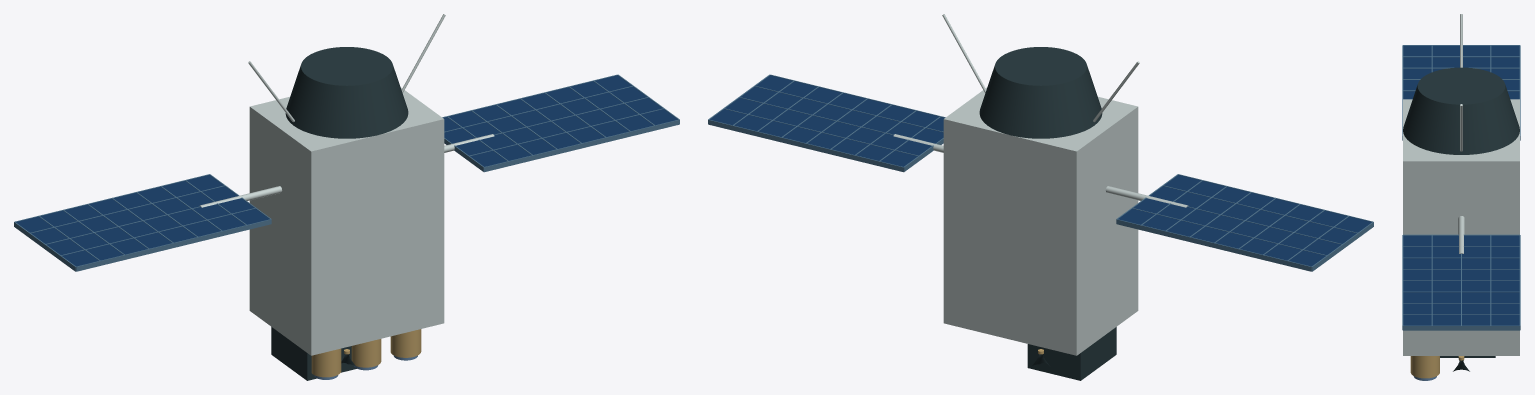
The model's file is landsat-1.glb.
The picture shows the model from 3 angles, left to right: view 1: azimuth 30°, elevation 25°; view 2: azimuth 150°, elevation 25°; view 3: azimuth 270°, elevation 25°; orthographic projection. The views are drawn at different scales.
Visible parts, largest first — view 1: body, solar, instruments, antenna; view 2: body, solar, instruments, antenna; view 3: body, solar, instruments, antenna, propulsion.
Part boxes in pixels (x1,y1,x2,y2): body: [249, 47, 444, 355]; solar: [14, 74, 679, 271]; instruments: [271, 327, 421, 380]; antenna: [248, 14, 445, 122]; body: [943, 47, 1138, 355]; solar: [708, 74, 1373, 271]; instruments: [1027, 327, 1116, 380]; antenna: [942, 14, 1139, 122]; body: [1403, 67, 1519, 355]; solar: [1402, 45, 1520, 330]; instruments: [1410, 356, 1495, 380]; antenna: [1460, 14, 1462, 151]; propulsion: [1453, 356, 1469, 371].
Size of the model in its own units: 6.81 by 3.4 by 1.21.
